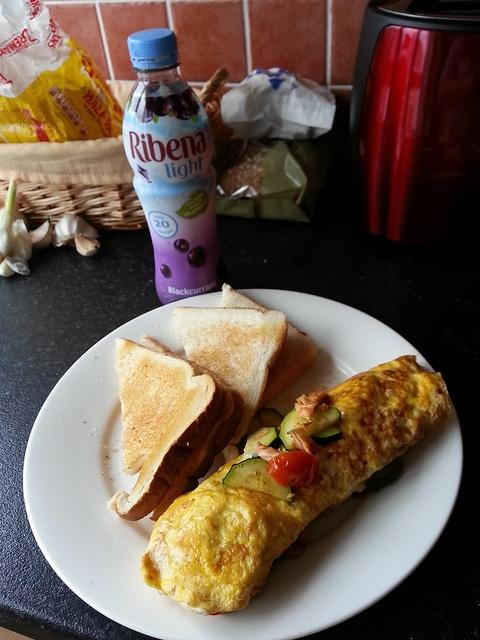cucumber: (222, 458, 294, 503), (278, 405, 342, 452), (244, 427, 282, 455), (260, 408, 284, 440), (310, 425, 343, 446)
garlic: (52, 214, 98, 247), (9, 230, 32, 262), (74, 234, 100, 256)
tomato: (266, 450, 318, 488)
